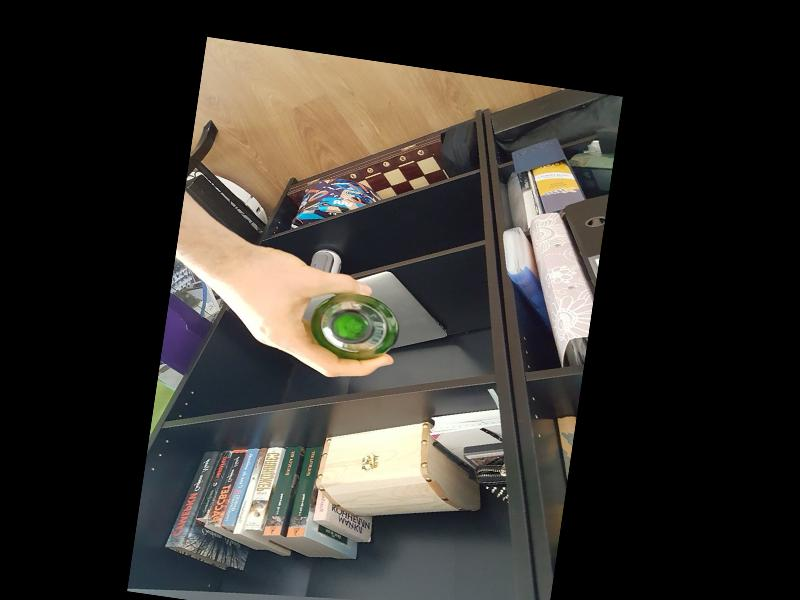Beer: (308, 287, 398, 364)
